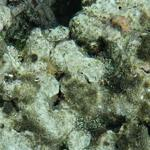dead: (1, 1, 149, 149)
